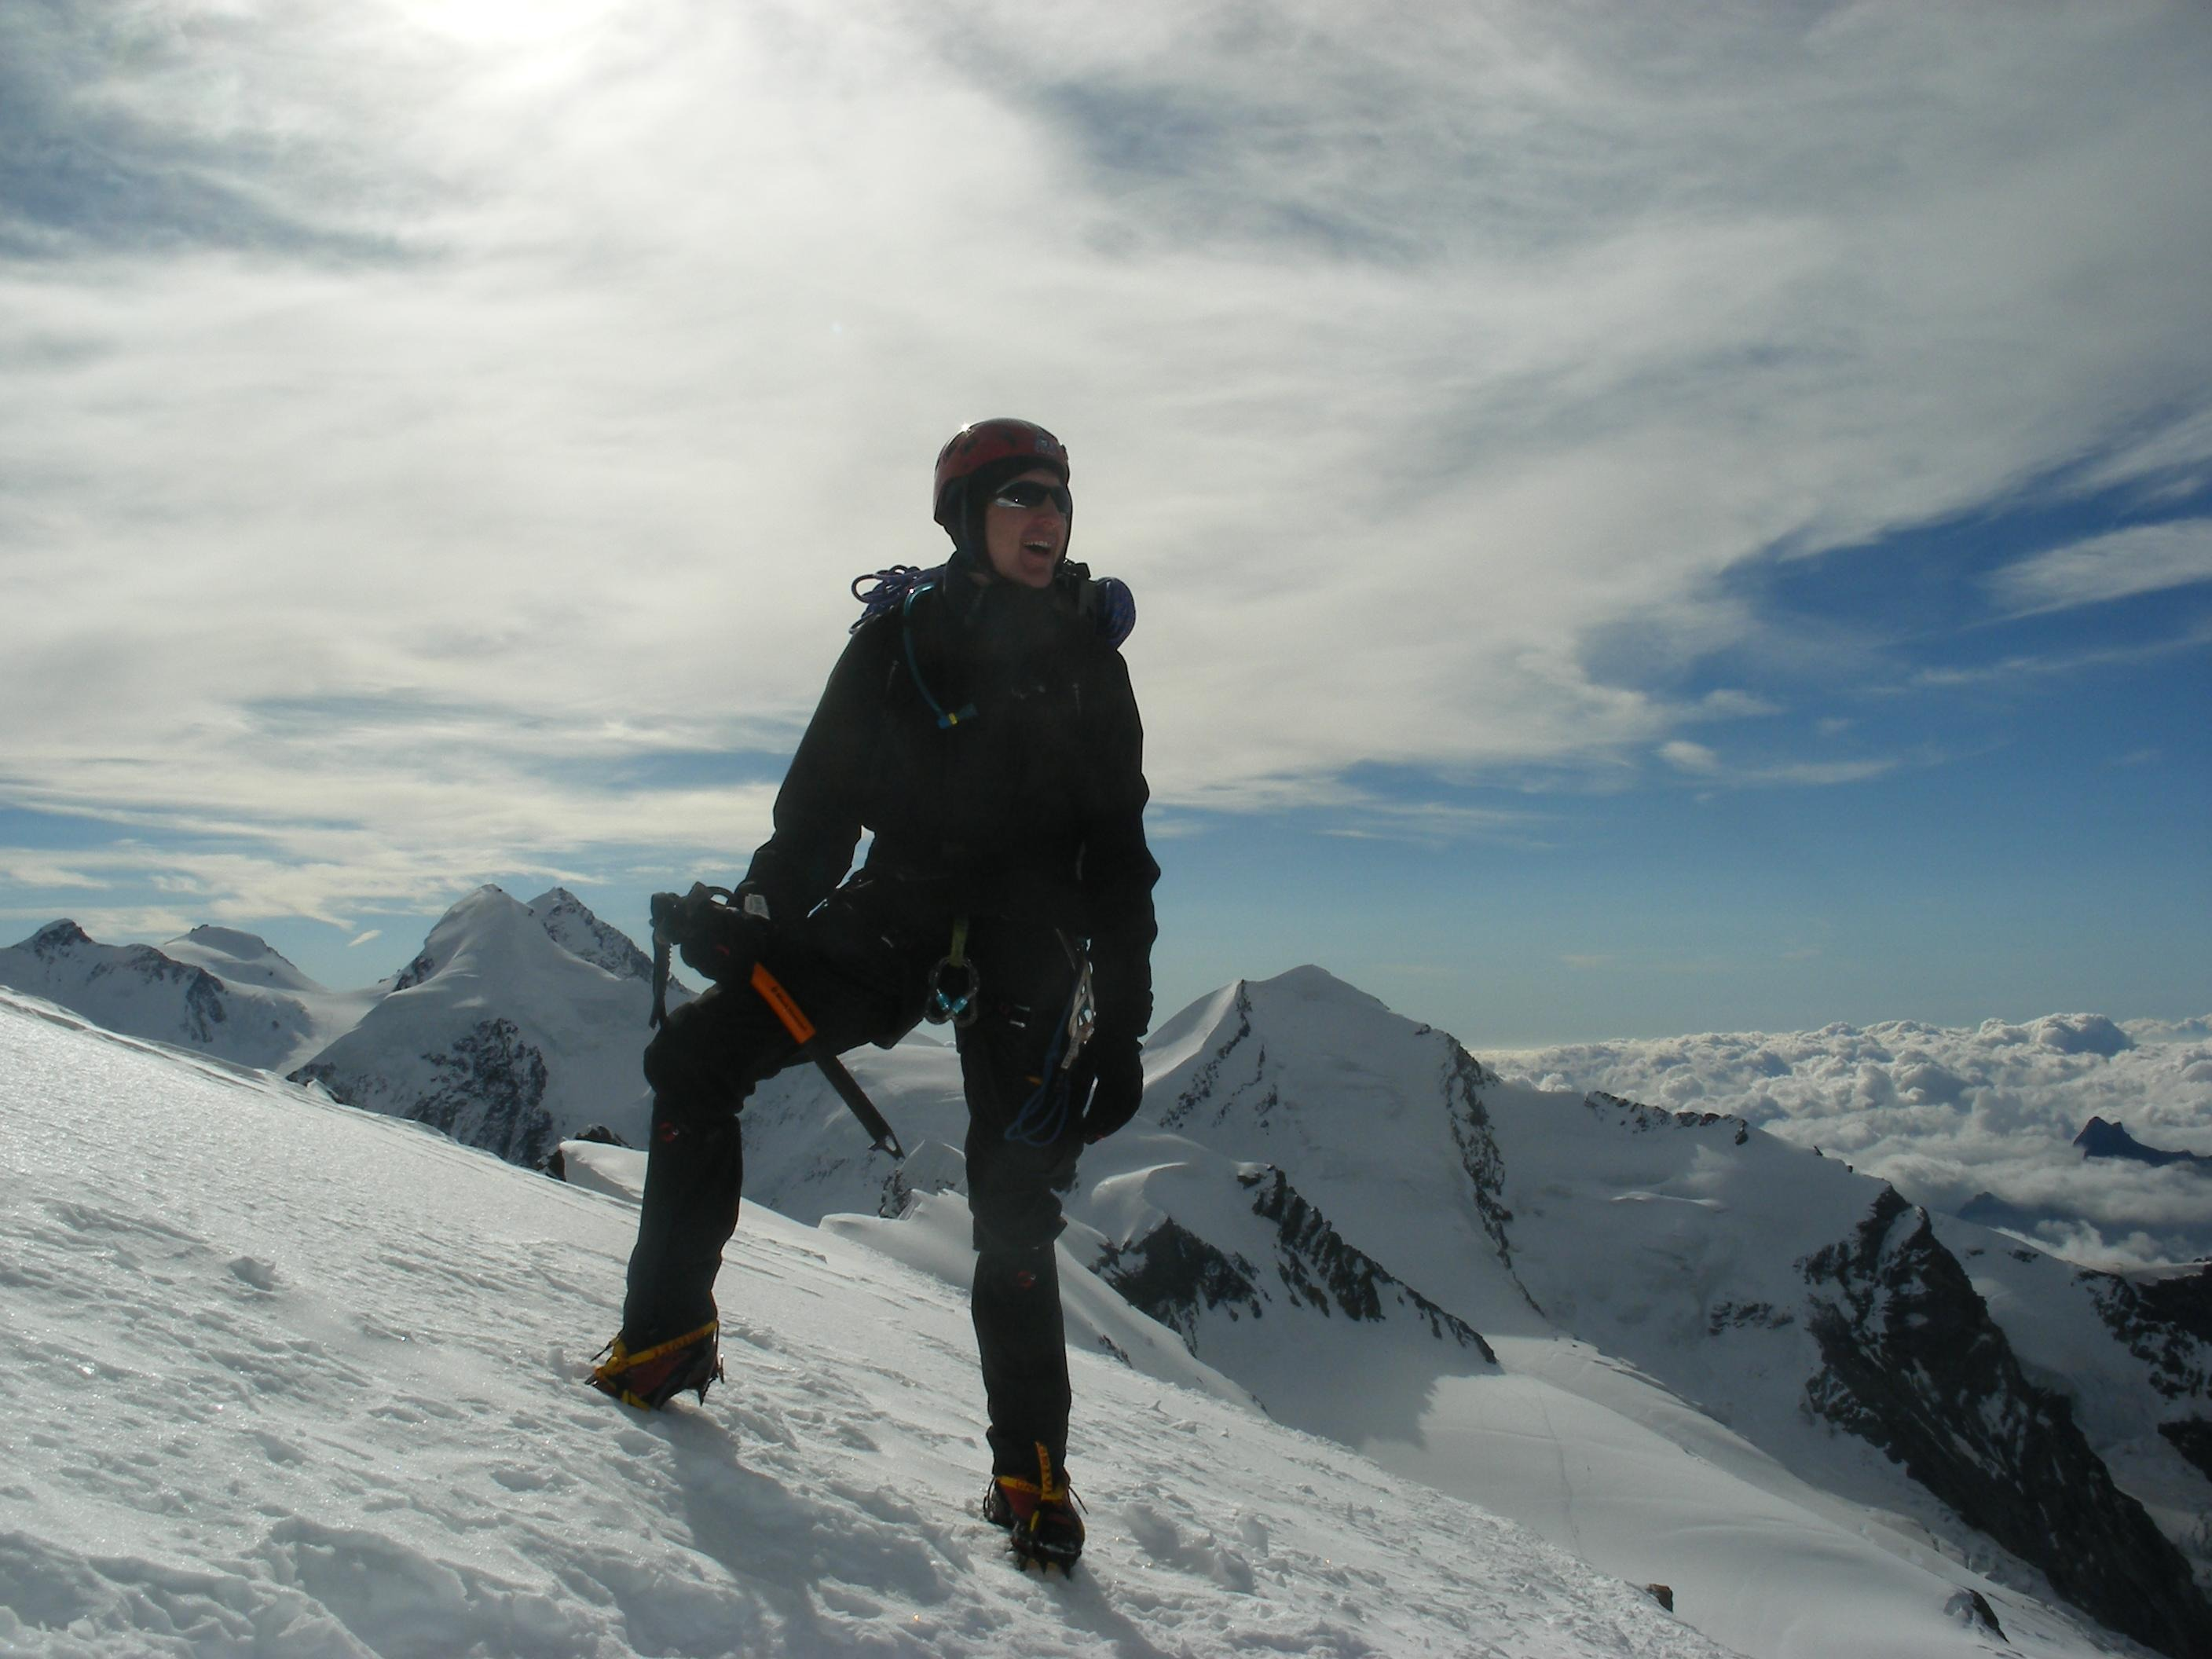helmet: (913, 415, 1076, 525)
